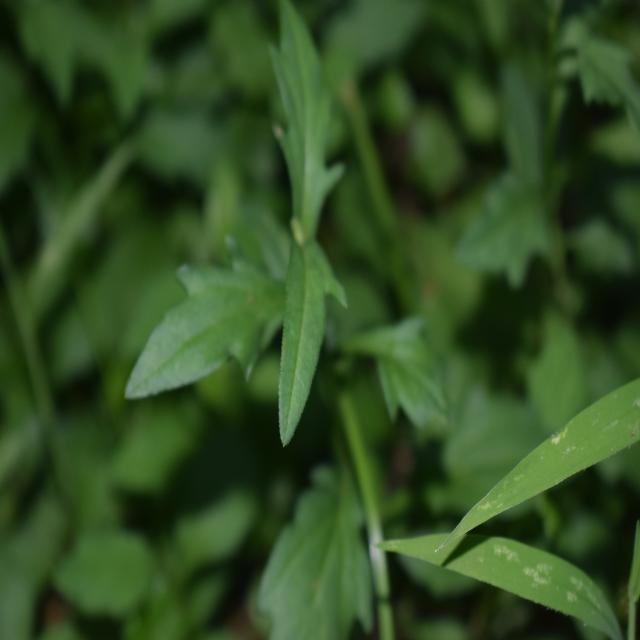Indian aster: (134, 4, 430, 448)
